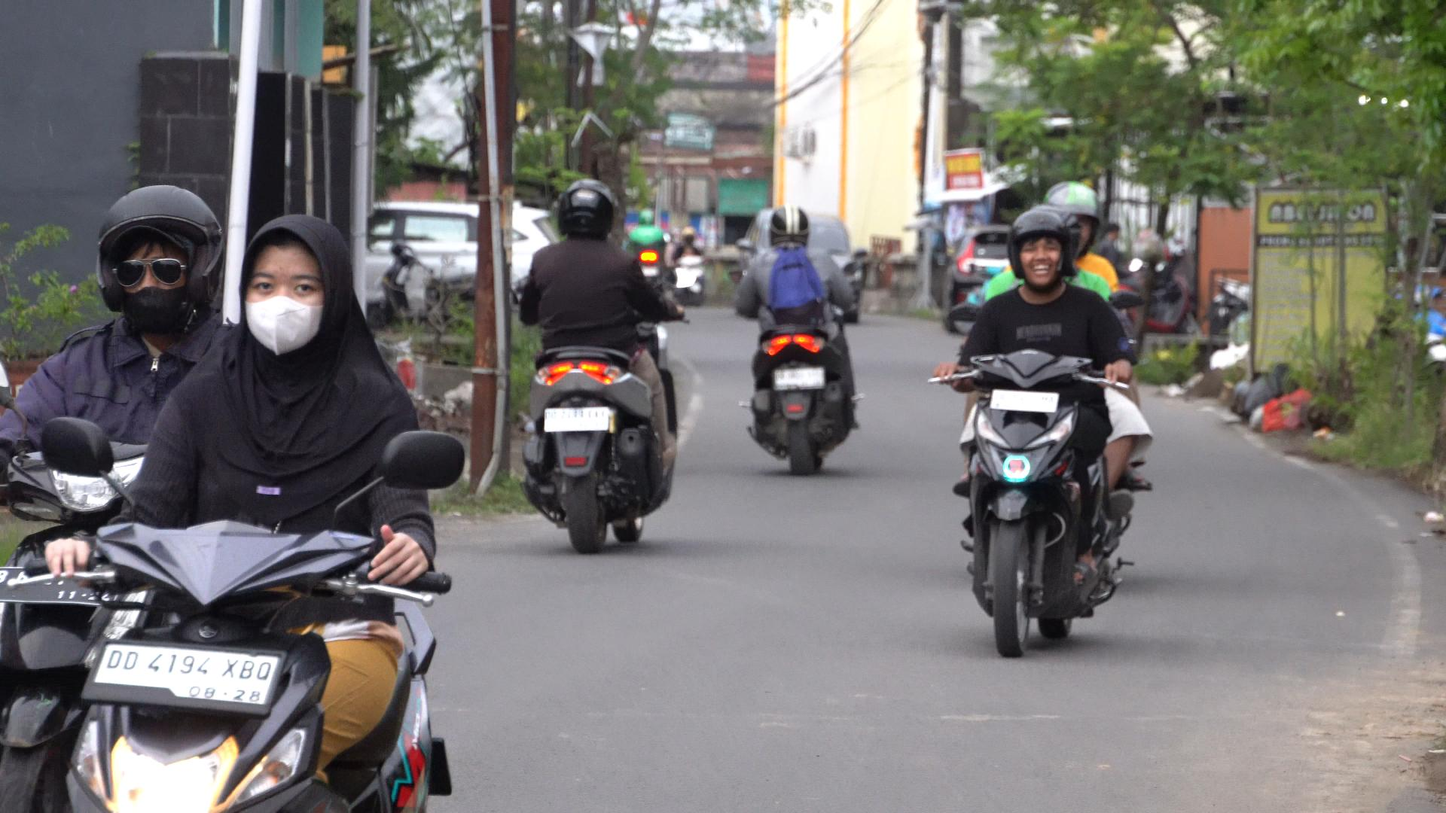number-plate: (86, 642, 286, 706)
